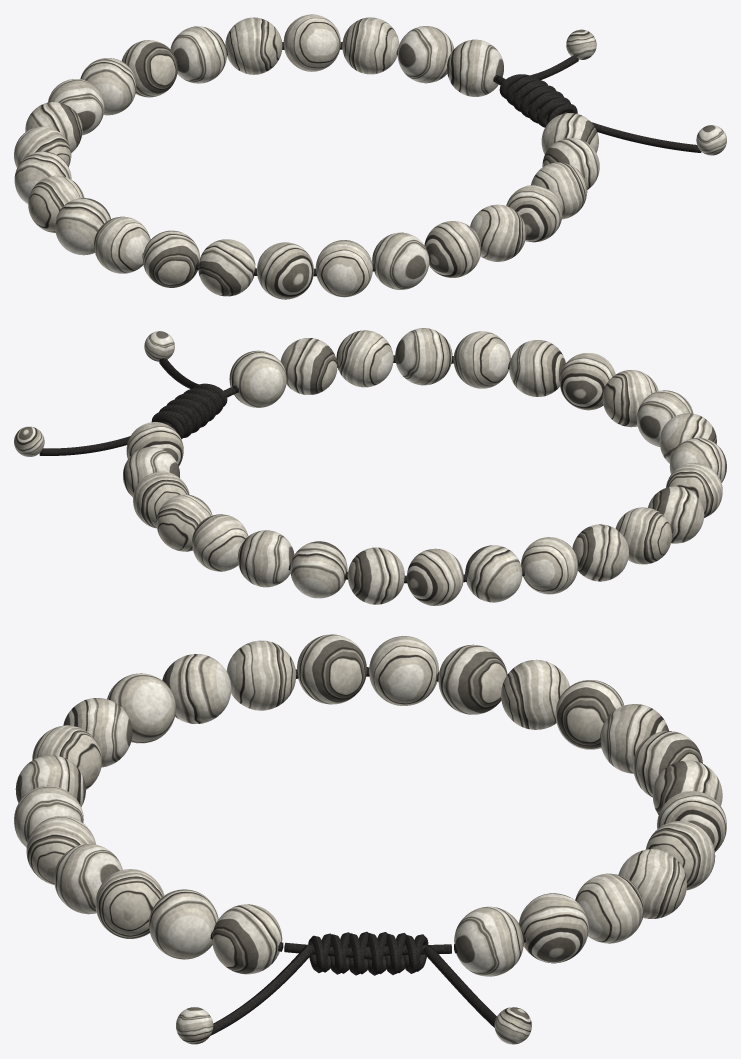
The picture shows the model from 3 angles, top to bottom: view 1: azimuth 30°, elevation 25°; view 2: azimuth 150°, elevation 25°; view 3: azimuth 270°, elevation 25°; orthographic projection. The views are drawn at different scales.
Parts seen in each view (by area): view 1: bead_round_0.001, bead_round_2.005, bead_round_1.005, bead_round_0.006, bead_round_1.001, bead_round_1.006, bead_round_0.005, bead_round_2, bead_round_0, bead_round_2.006, bead_round_1, bead_round_2.001 (+17 smaller); view 2: bead_round_1.002, bead_round_0.003, bead_round_1.007, bead_round_0.007, bead_round_1.003, bead_round_0.002, bead_round_2.007, bead_round_2.002, bead_round_1.008, bead_round_2.001, bead_round_0.008, bead_round_2.003 (+17 smaller); view 3: bead_round_1.004, bead_round_0.004, bead_round_1.008, bead_round_0, bead_round_2.004, bead_round_1, bead_round_0.008, bead_round_2.003, bead_round_0.005, bead_round_2, bead_round_1.003, bead_round_2.007 (+18 smaller).
Part boxes in pixels (x1,y1,x2,y2): bead_round_0.001: (283, 14, 340, 71); bead_round_2.005: (257, 242, 313, 299); bead_round_1.005: (198, 239, 255, 296); bead_round_0.006: (315, 240, 372, 297); bead_round_1.001: (225, 17, 282, 74); bead_round_1.006: (372, 232, 429, 289); bead_round_0.005: (143, 230, 200, 287); bead_round_2: (342, 17, 399, 74); bead_round_0: (447, 39, 503, 96); bead_round_2.006: (424, 221, 481, 277); bead_round_1: (397, 26, 454, 83); bead_round_2.001: (170, 26, 226, 83); bead_round_1.002: (347, 547, 404, 604); bead_round_0.003: (465, 545, 522, 602); bead_round_1.007: (395, 328, 452, 385); bead_round_0.007: (453, 331, 510, 388); bead_round_1.003: (521, 537, 578, 594); bead_round_0.002: (290, 541, 347, 598); bead_round_2.007: (336, 330, 393, 387); bead_round_2.002: (406, 548, 463, 605); bead_round_1.008: (229, 350, 286, 407); bead_round_2.001: (237, 530, 294, 587); bead_round_0.008: (280, 338, 337, 394); bead_round_2.003: (572, 524, 628, 581); bead_round_1.004: (297, 634, 366, 704); bead_round_0.004: (369, 636, 438, 705); bead_round_1.008: (212, 904, 282, 974); bead_round_0: (454, 906, 523, 976); bead_round_2.004: (226, 640, 296, 710); bead_round_1: (519, 893, 588, 963); bead_round_0.008: (149, 889, 218, 959); bead_round_2.003: (438, 644, 507, 714); bead_round_0.005: (162, 654, 231, 723); bead_round_2: (575, 873, 643, 943); bead_round_1.003: (501, 659, 569, 729); bead_round_2.007: (95, 869, 164, 938).
Size of the model in its own units: 7.38 by 0.6018 by 6.1.
Materials: 4 (4 with a texture image).
